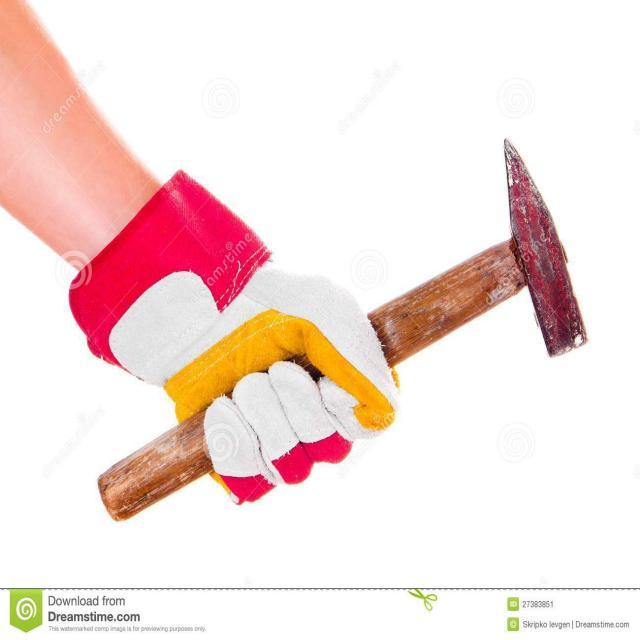hammer: (92, 132, 594, 531)
